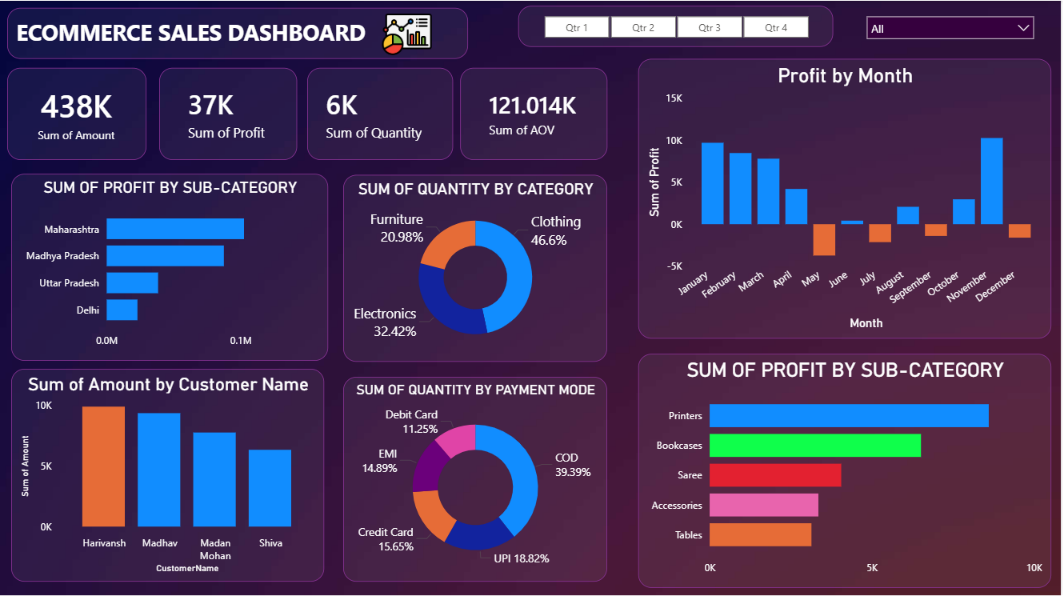

The dashboard page shown, as its layout file describes it:
{"tool":"powerbi","page":{"name":"Page 1","canvas":[1280,720],"ordinal":0},"visuals":[{"type":"textbox","box":[9.7,8.4,556.2,61.5],"z":0},{"type":"columnChart","title":"Profit by Month","fields":{"Category":["Orders.Order Date.Variation.Date Hierarchy.Month"],"Y":["Sum(Details (1).Profit)"]},"box":[770.9,70,498.3,337.8],"z":1000},{"type":"clusteredBarChart","title":"SUM OF PROFIT BY SUB-CATEGORY","fields":{"Category":["Details (1).Sub-Category"],"Y":["Sum(Details (1).Profit)"]},"box":[770.9,425.9,498.3,282.3],"z":2000},{"type":"donutChart","title":"SUM OF QUANTITY BY CATEGORY","fields":{"Category":["Details (1).Category"],"Y":["Sum(Details (1).Quantity)"]},"box":[415,209.9,318.5,225.6],"z":3000},{"type":"cardVisual","fields":{"Data":["Sum(Details (1).Amount)"]},"box":[9.7,80.8,167.7,111],"z":4000},{"type":"cardVisual","fields":{"Data":["Sum(Details (1).Profit)"]},"box":[193,80.8,166.5,111],"z":5000},{"type":"cardVisual","fields":{"Data":["Sum(Details (1).Quantity)"]},"box":[371.6,80.8,176.1,111],"z":6000},{"type":"cardVisual","fields":{"Data":["Sum(Details (1).AOV)"]},"box":[556.2,80.8,177.3,111],"z":7000},{"type":"donutChart","title":"SUM OF QUANTITY BY PAYMENT MODE","fields":{"Category":["Details (1).PaymentMode"],"Y":["Sum(Details (1).Quantity)"]},"box":[415,453.6,318.5,247.3],"z":8000},{"type":"clusteredBarChart","title":"SUM OF PROFIT BY SUB-CATEGORY","fields":{"Category":["Orders.State"],"Y":["Sum(Details (1).Amount)"]},"box":[14.5,208.7,382.4,225.6],"z":9000},{"type":"columnChart","title":"Sum of Amount by Customer Name","fields":{"Y":["Sum(Details (1).Amount)"],"Category":["Orders.CustomerName"]},"box":[14.5,444,377.6,257],"z":10000},{"type":"slicer","fields":{"Values":["Orders.Order Date.Variation.Date Hierarchy.Quarter"]},"box":[626.1,6,380,49.5],"z":11000},{"type":"slicer","fields":{"Values":["Orders.State"]},"box":[1036.3,8.4,222,42.2],"z":12000},{"type":"image","box":[417.4,8.4,148.4,63.9],"z":13000}]}

Visuals, with their boxes in screenshot pixels (x1, y1, x2, y2), scaled from the page's 1280x720 canvas onto the 1063x596 screenshot:
textbox: x1=8, y1=7, x2=470, y2=58
"Profit by Month" columnChart: x1=640, y1=58, x2=1054, y2=338
"SUM OF PROFIT BY SUB-CATEGORY" clusteredBarChart: x1=640, y1=353, x2=1054, y2=586
"SUM OF QUANTITY BY CATEGORY" donutChart: x1=345, y1=174, x2=609, y2=360
cardVisual - Sum(Details (1).Amount): x1=8, y1=67, x2=147, y2=159
cardVisual - Sum(Details (1).Profit): x1=160, y1=67, x2=299, y2=159
cardVisual - Sum(Details (1).Quantity): x1=309, y1=67, x2=455, y2=159
cardVisual - Sum(Details (1).AOV): x1=462, y1=67, x2=609, y2=159
"SUM OF QUANTITY BY PAYMENT MODE" donutChart: x1=345, y1=375, x2=609, y2=580
"SUM OF PROFIT BY SUB-CATEGORY" clusteredBarChart: x1=12, y1=173, x2=330, y2=360
"Sum of Amount by Customer Name" columnChart: x1=12, y1=368, x2=326, y2=580
slicer - Orders.Order Date.Variation.Date Hierarchy.Quarter: x1=520, y1=5, x2=836, y2=46
slicer - Orders.State: x1=861, y1=7, x2=1045, y2=42
image: x1=347, y1=7, x2=470, y2=60
